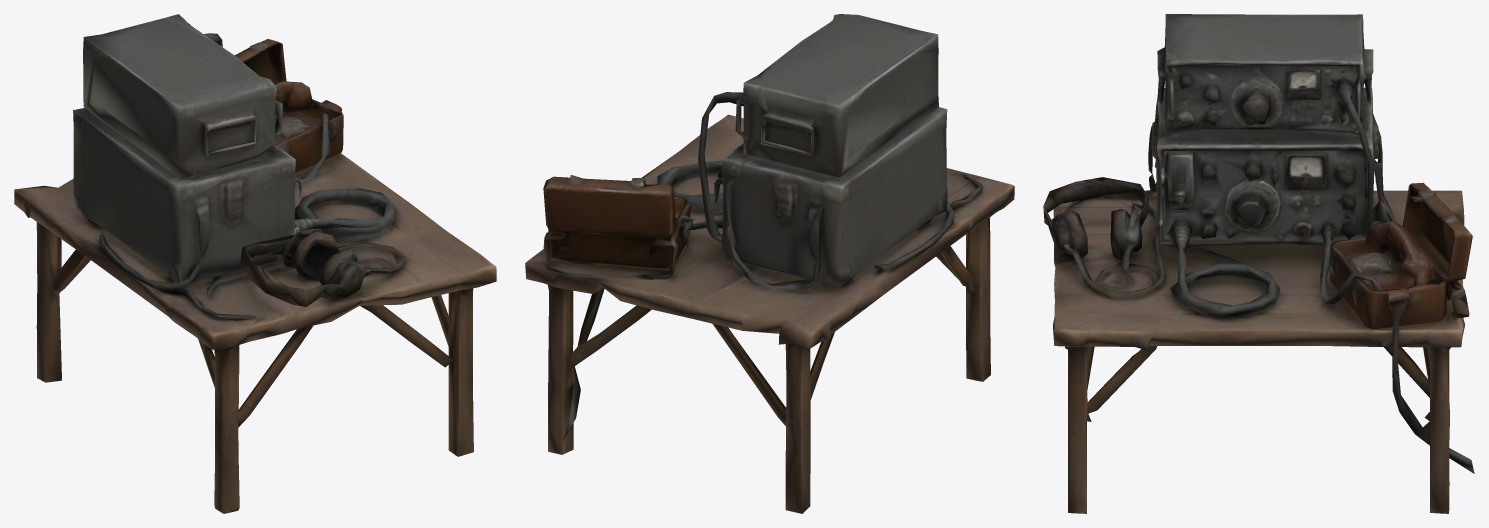
Rendered from prop_radio_set.glb.
The picture shows the model from 3 angles, left to right: view 1: azimuth 30°, elevation 25°; view 2: azimuth 150°, elevation 25°; view 3: azimuth 270°, elevation 25°; orthographic projection.
Parts seen in each view (by area): view 1: tripo_node_507b7c62-6e62-402c-87e3-6f97a45b527c; view 2: tripo_node_507b7c62-6e62-402c-87e3-6f97a45b527c; view 3: tripo_node_507b7c62-6e62-402c-87e3-6f97a45b527c.
Boxes of the visible parts, bbox=[...] form: tripo_node_507b7c62-6e62-402c-87e3-6f97a45b527c: bbox=[14, 14, 496, 513]; tripo_node_507b7c62-6e62-402c-87e3-6f97a45b527c: bbox=[525, 14, 1014, 513]; tripo_node_507b7c62-6e62-402c-87e3-6f97a45b527c: bbox=[1043, 14, 1474, 513].
Size of the model in its own units: 0.8086 by 0.9722 by 1.
Materials: 1 (1 with a texture image).
